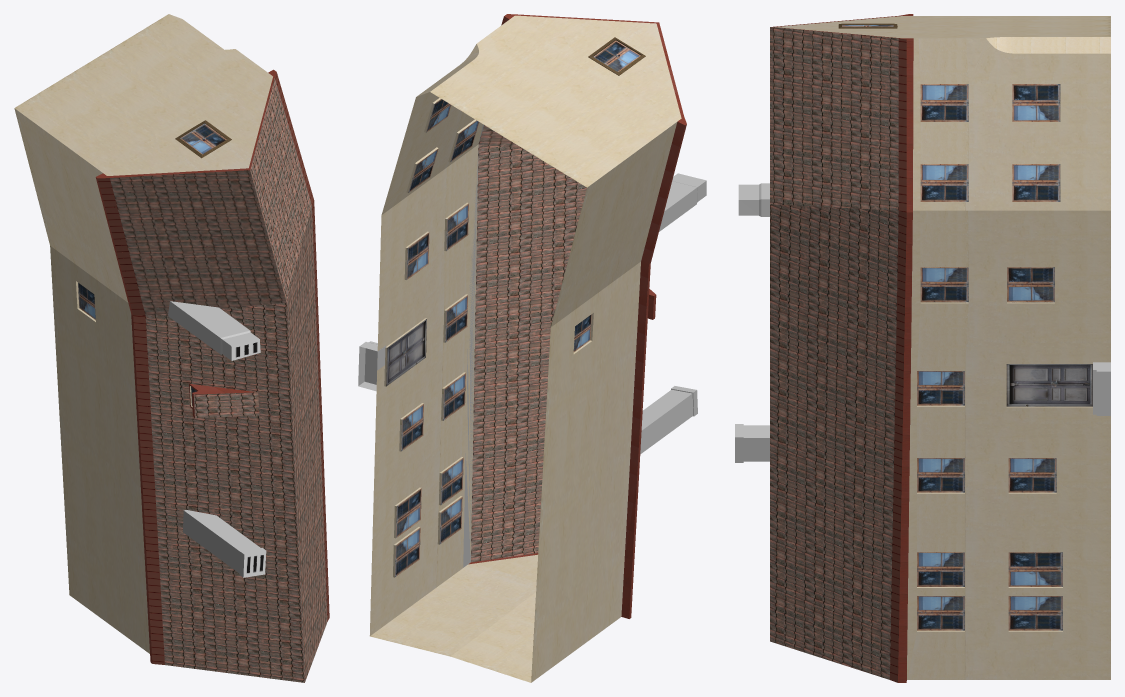
Rendered from Kooli10.obj.
The picture shows the model from 3 angles, left to right: view 1: azimuth 30°, elevation 25°; view 2: azimuth 150°, elevation 25°; view 3: azimuth 270°, elevation 25°; orthographic projection. The views are drawn at different scales.
Visible parts, largest first — view 1: Kooli10; view 2: Kooli10; view 3: Kooli10.
Part boxes in pixels (x1,y1,x2,y2): Kooli10: (14, 14, 329, 682); Kooli10: (358, 14, 706, 682); Kooli10: (735, 14, 1110, 682).
Bounding box in the file's own units: 8.69 × 20.08 × 10.94.
